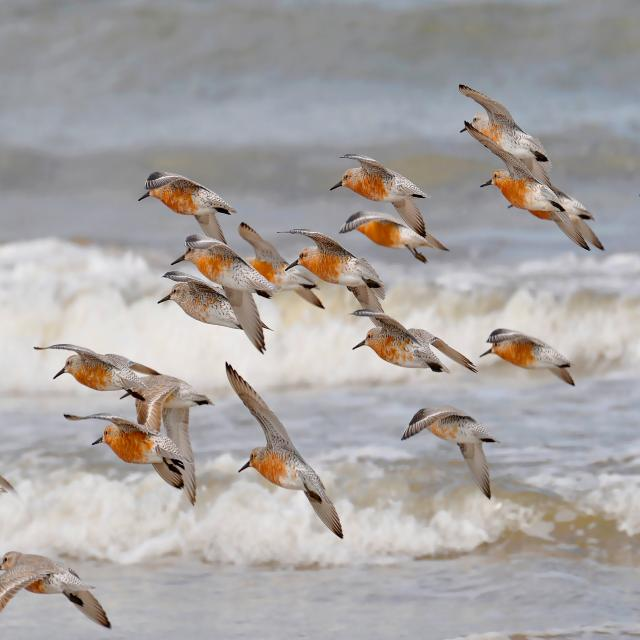bird: (219, 358, 346, 546), (458, 124, 594, 254), (35, 341, 213, 435), (121, 365, 211, 504), (168, 235, 269, 350), (53, 408, 190, 492), (0, 544, 118, 640), (345, 298, 479, 380), (449, 76, 556, 172), (401, 406, 504, 497), (322, 159, 439, 238), (131, 176, 242, 244), (301, 234, 392, 314), (157, 275, 273, 334), (339, 210, 453, 265), (478, 331, 580, 392), (234, 222, 317, 286)
